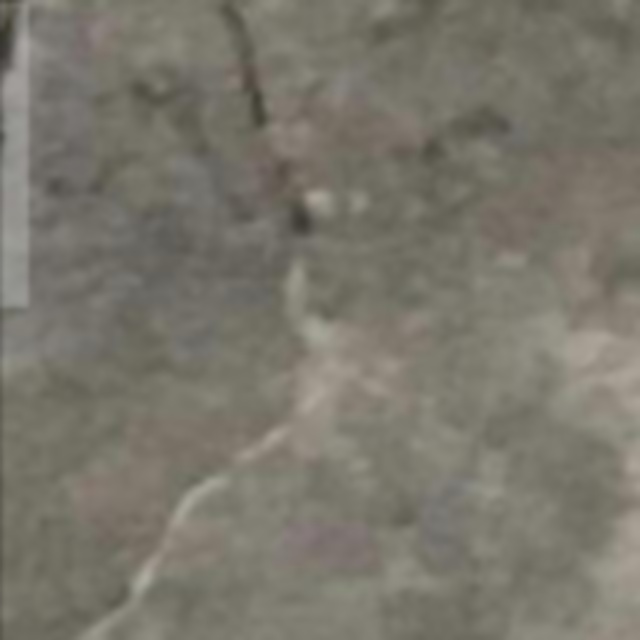SurfaceCrack: (62, 0, 320, 640)
